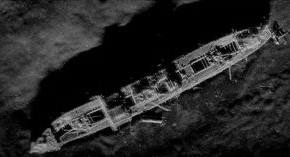ship: (24, 21, 290, 157)
